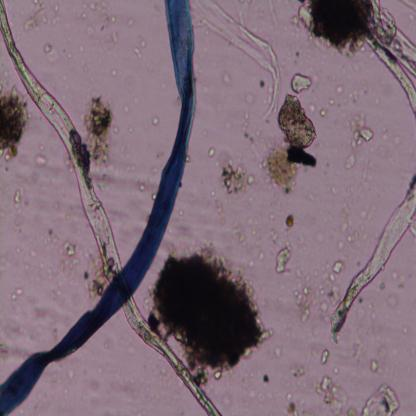Background material: (147, 250, 271, 382), (262, 93, 320, 201), (294, 0, 371, 51), (297, 255, 349, 325), (207, 146, 259, 195), (0, 88, 31, 160), (82, 97, 113, 168), (76, 0, 122, 42), (338, 197, 370, 250), (360, 382, 402, 415), (79, 255, 108, 298), (316, 377, 349, 414), (371, 122, 399, 159), (24, 1, 51, 35), (350, 115, 372, 148), (229, 219, 252, 250), (273, 246, 295, 274), (88, 167, 119, 186), (17, 166, 42, 188), (244, 383, 270, 403), (217, 195, 232, 229), (2, 341, 26, 361), (292, 73, 312, 94), (129, 37, 148, 59), (242, 118, 257, 145), (60, 242, 79, 263), (43, 40, 60, 63), (390, 268, 407, 290), (284, 390, 298, 415), (50, 2, 64, 27), (42, 225, 60, 244), (381, 291, 398, 310), (317, 343, 330, 366), (344, 150, 358, 171), (241, 88, 258, 105), (286, 365, 306, 379), (122, 158, 137, 176), (132, 180, 152, 192), (12, 211, 28, 226), (222, 68, 235, 86), (368, 358, 380, 376), (10, 285, 22, 303), (36, 154, 48, 168), (12, 187, 22, 203), (108, 64, 119, 78), (283, 215, 294, 229), (327, 94, 337, 108), (257, 77, 267, 91), (122, 99, 131, 114), (259, 373, 270, 384), (150, 115, 160, 127), (352, 86, 359, 103), (275, 345, 284, 356), (336, 86, 347, 94), (319, 107, 327, 117), (314, 106, 317, 114)
Cellulose filter fibre: (0, 0, 120, 285), (331, 177, 416, 345), (121, 296, 224, 415), (191, 1, 281, 115), (362, 1, 416, 123)
Cotton: (0, 0, 195, 415)
